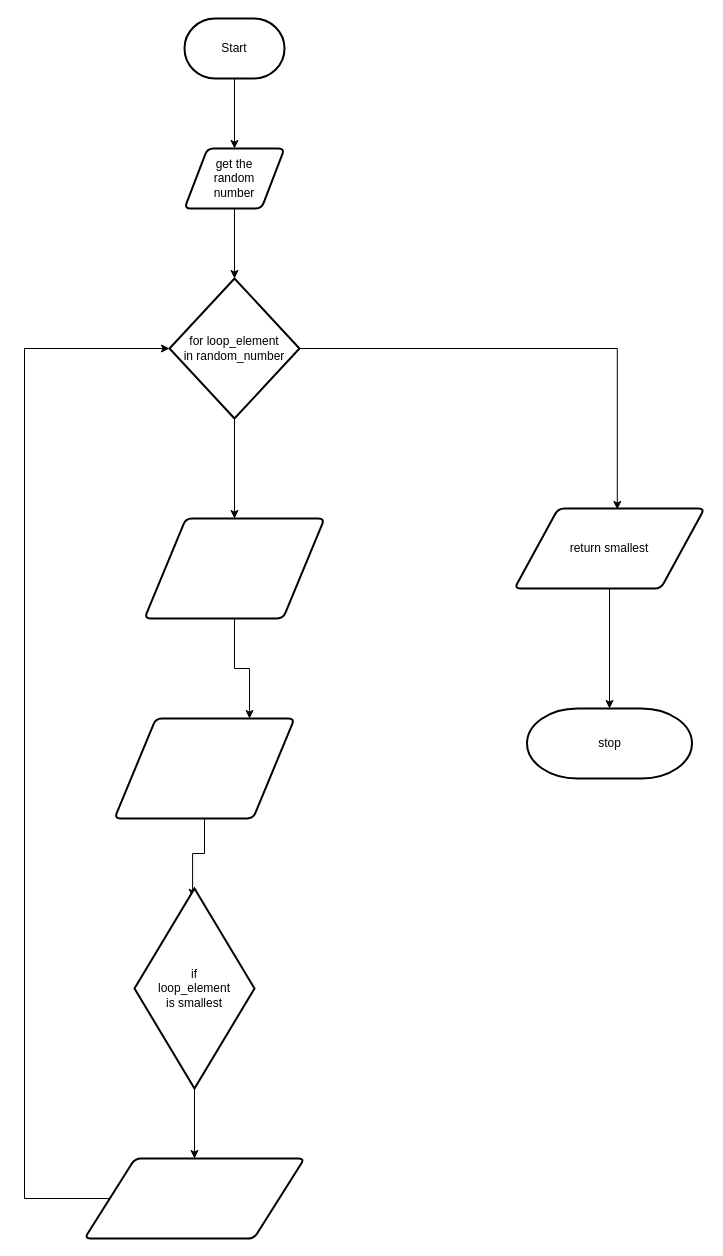
Image size: 723x1256. Some labels were removed from this diagram. Each missing label, with the centre of its shape:
loop_counter = loop_counter +1: (x=234, y=568)
print" The random number (loop_counter) is: (loop_element)": (x=204, y=768)
smallest = loop_element: (x=194, y=1198)
